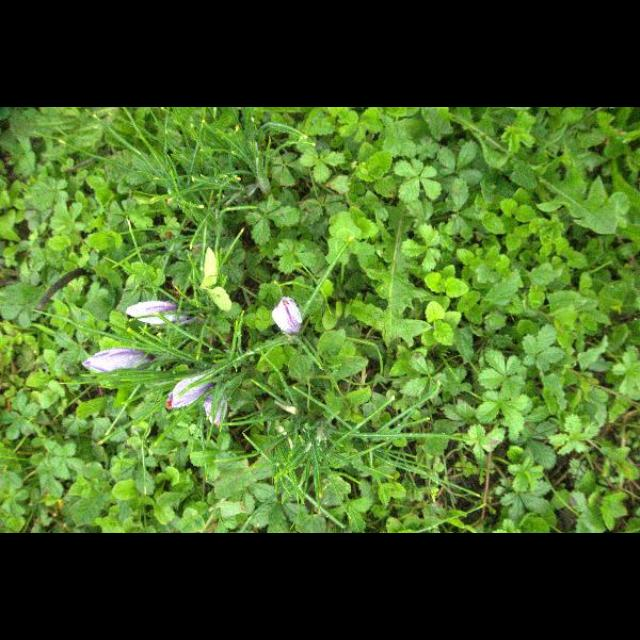flower: (82, 348, 154, 374), (166, 374, 214, 411), (126, 300, 196, 324), (272, 296, 302, 334), (204, 384, 228, 428)
